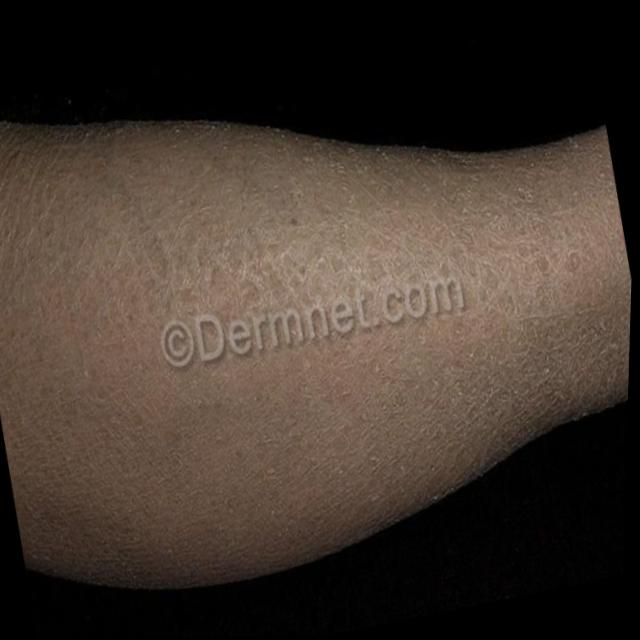liquenificacion 1: (0, 116, 631, 593)
liquenificacion 2: (0, 116, 631, 593)
